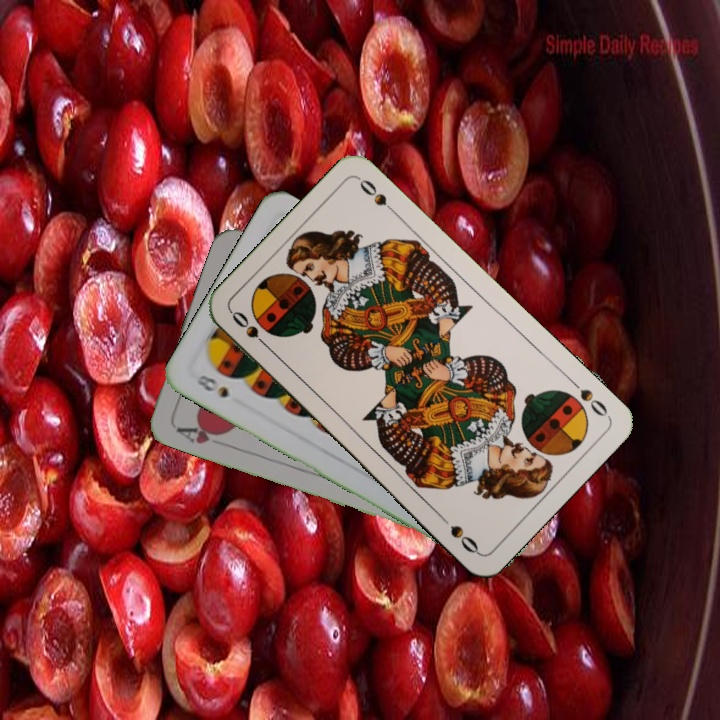HA: (172, 419, 229, 447)
S8: (188, 371, 231, 401)
SO: (227, 306, 274, 354), (565, 374, 612, 420)
